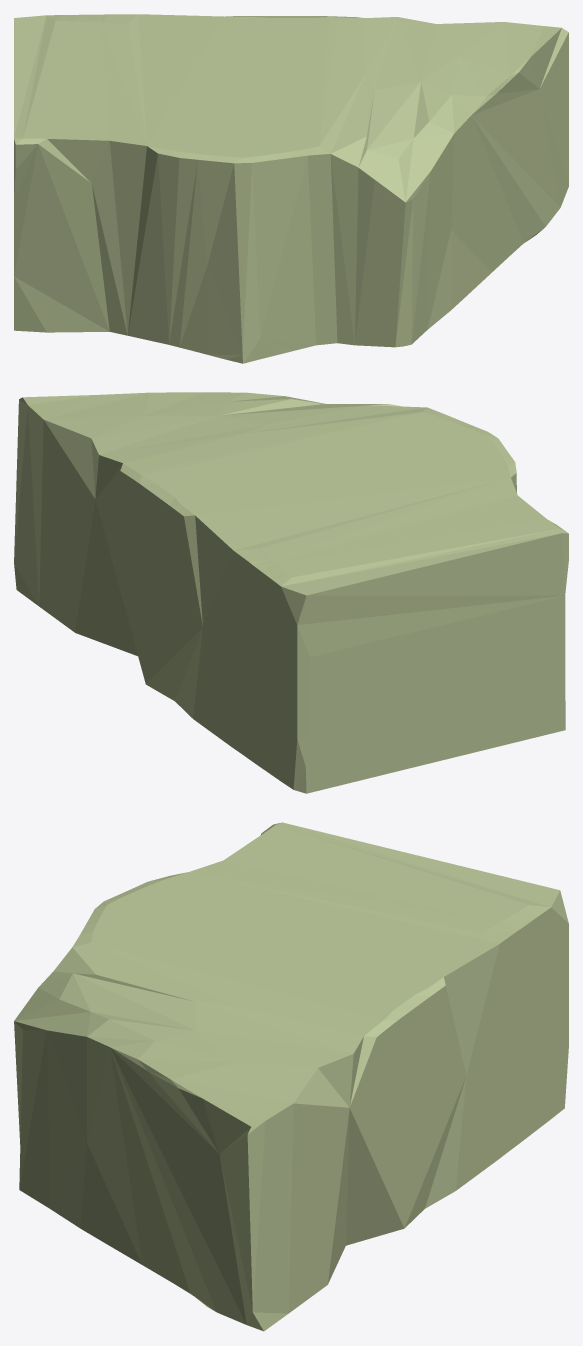
Rendered from ground_18.gltf.
3 views of the same model, one above another, from view 1: azimuth 30°, elevation 25°; view 2: azimuth 150°, elevation 25°; view 3: azimuth 270°, elevation 25° (orthographic). The views are drawn at different scales.
Visible parts, largest first — view 1: gwanggyo_internationalhouse; view 2: gwanggyo_internationalhouse; view 3: gwanggyo_internationalhouse.
Part boxes in pixels (<box>): gwanggyo_internationalhouse: <box>14,14,568,363</box>; gwanggyo_internationalhouse: <box>14,392,568,793</box>; gwanggyo_internationalhouse: <box>14,822,568,1331</box>.
Bounding box in the file's own units: 22.16 × 7.48 × 17.37.
